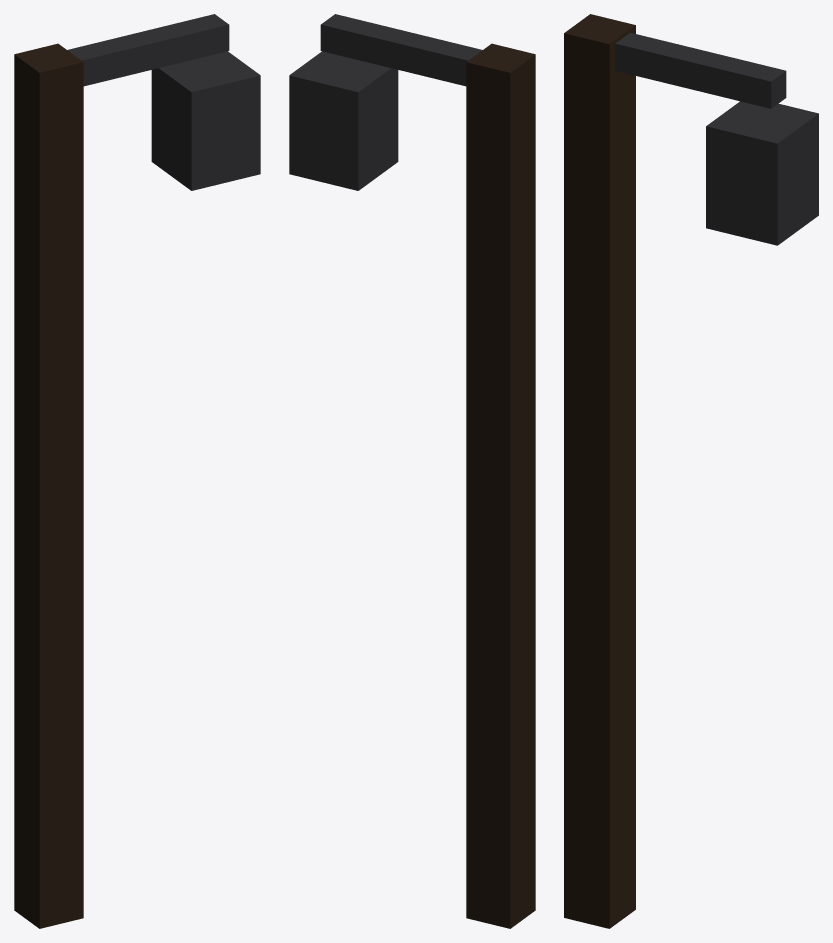
The model's file is lamp_post.glb.
The picture shows the model from 3 angles, left to right: view 1: azimuth 30°, elevation 25°; view 2: azimuth 150°, elevation 25°; view 3: azimuth 330°, elevation 25°; orthographic projection. The views are drawn at different scales.
Parts seen in each view (by area): view 1: LampPost; view 2: LampPost; view 3: LampPost.
Boxes of the visible parts, x1=… form: LampPost: x1=14, y1=14, x2=260, y2=928; LampPost: x1=289, y1=14, x2=535, y2=928; LampPost: x1=564, y1=14, x2=818, y2=928.
Size of the model in its own units: 0.68 by 2.6 by 0.22.
